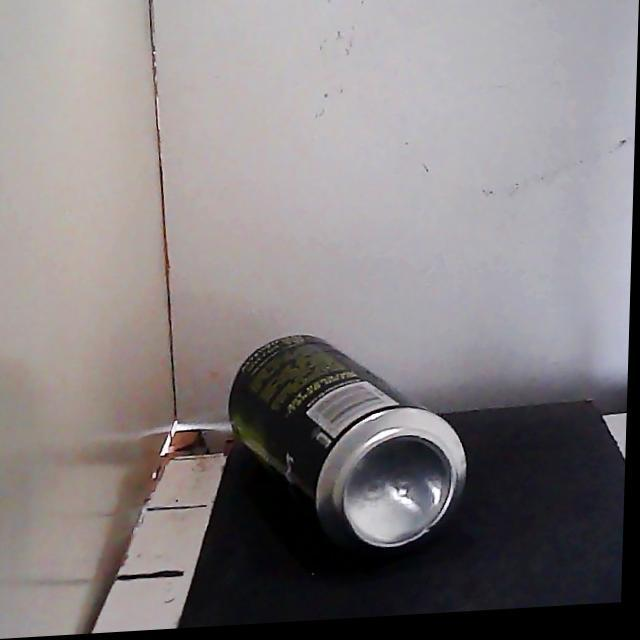metal: (229, 335, 466, 551)
